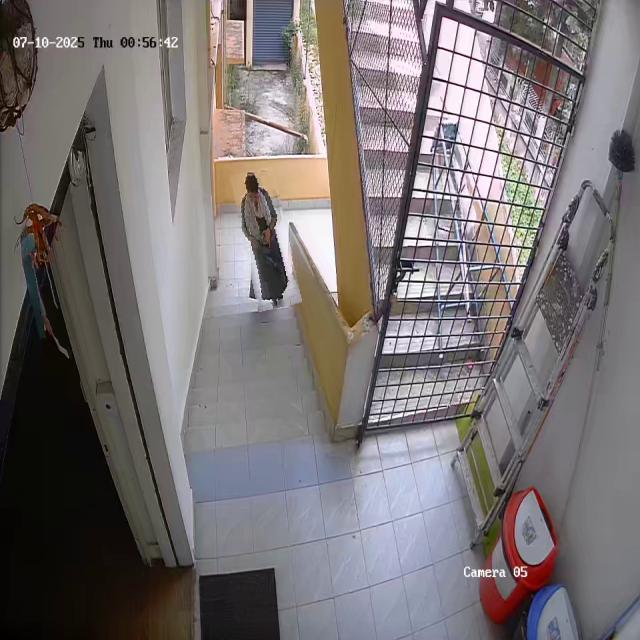person: (236, 167, 295, 311)
